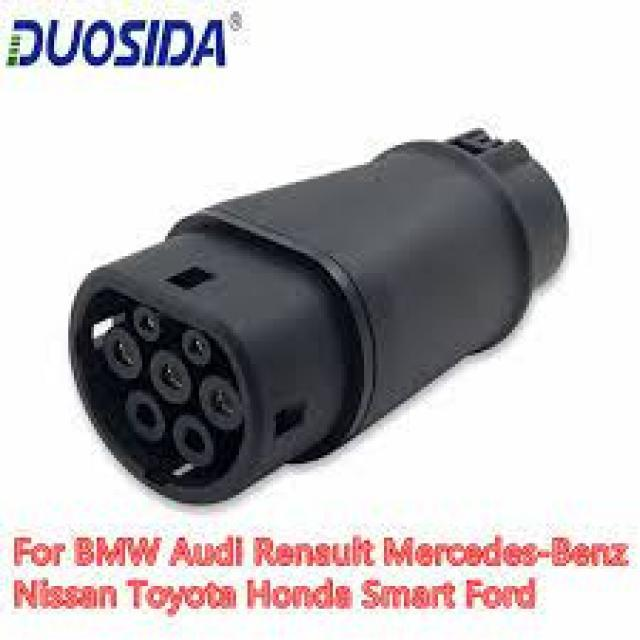Type 2: (31, 216, 327, 531)
